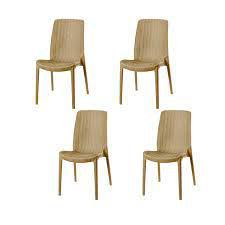chair: (29, 8, 204, 208)
